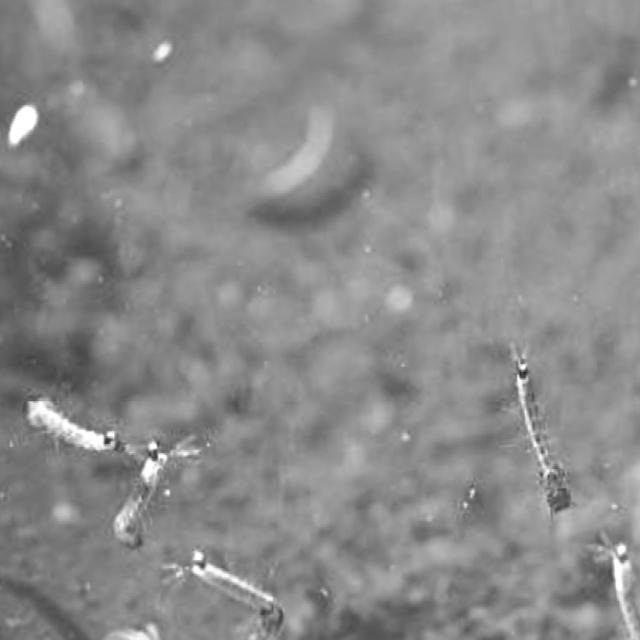larvas: (514, 353, 568, 514), (186, 559, 284, 632), (113, 444, 164, 545), (28, 394, 116, 451), (608, 536, 640, 640)
